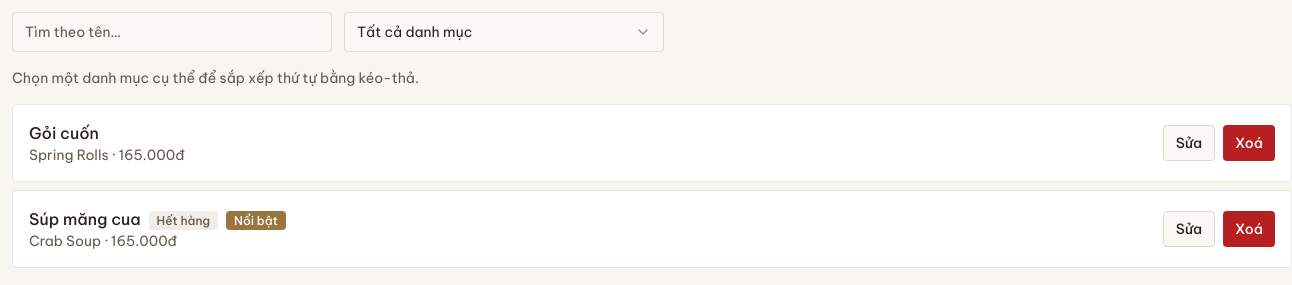
Test: MenuItemsTable › filters by search term
Type "Gỏi" into the field with placeholder "Tìm theo tên…".
click(172, 32); type("Gỏi")  # box [12, 12, 332, 52]
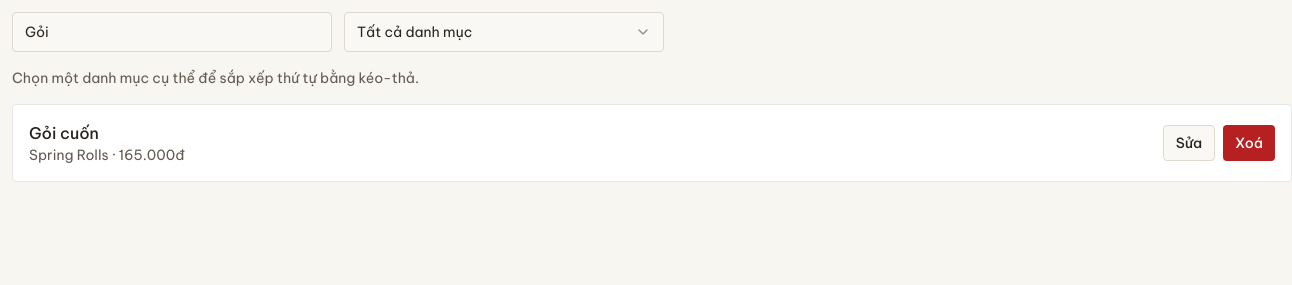
expect the text "Gỏi cuốn" is shown: met, box [29, 123, 99, 143]
expect the text "Súp măng cua" is gone: met
